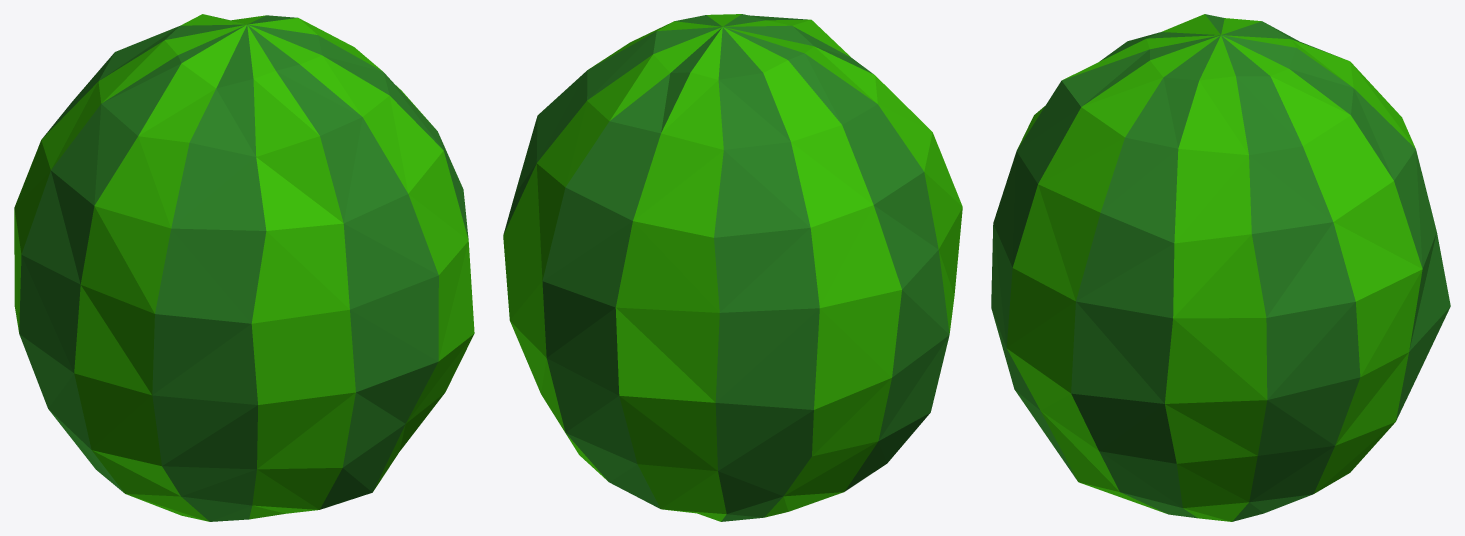
Rendered from Melon.fbx.
3 views of the same model, side by side, from view 1: azimuth 30°, elevation 25°; view 2: azimuth 150°, elevation 25°; view 3: azimuth 270°, elevation 25° (orthographic).
Visible parts, largest first — view 1: Melon; view 2: Melon; view 3: Melon.
Boxes of the visible parts, x1,y1,x2,y2 form: Melon: (14, 14, 474, 521); Melon: (503, 14, 962, 521); Melon: (991, 14, 1450, 521).
Size of the model in its own units: 58.79 by 68.34 by 60.17.
